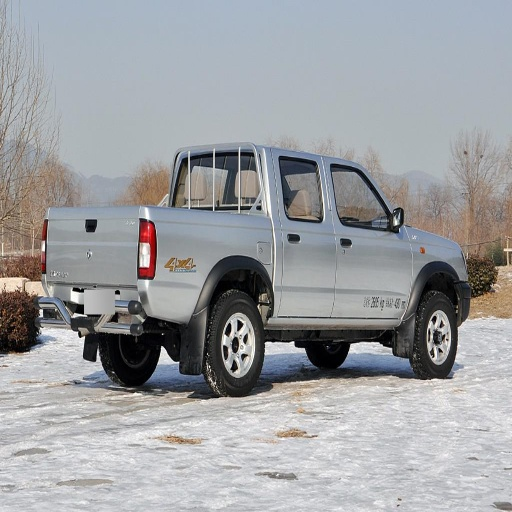back_right_door: (277, 154, 336, 315)
trunk: (63, 211, 274, 324)
